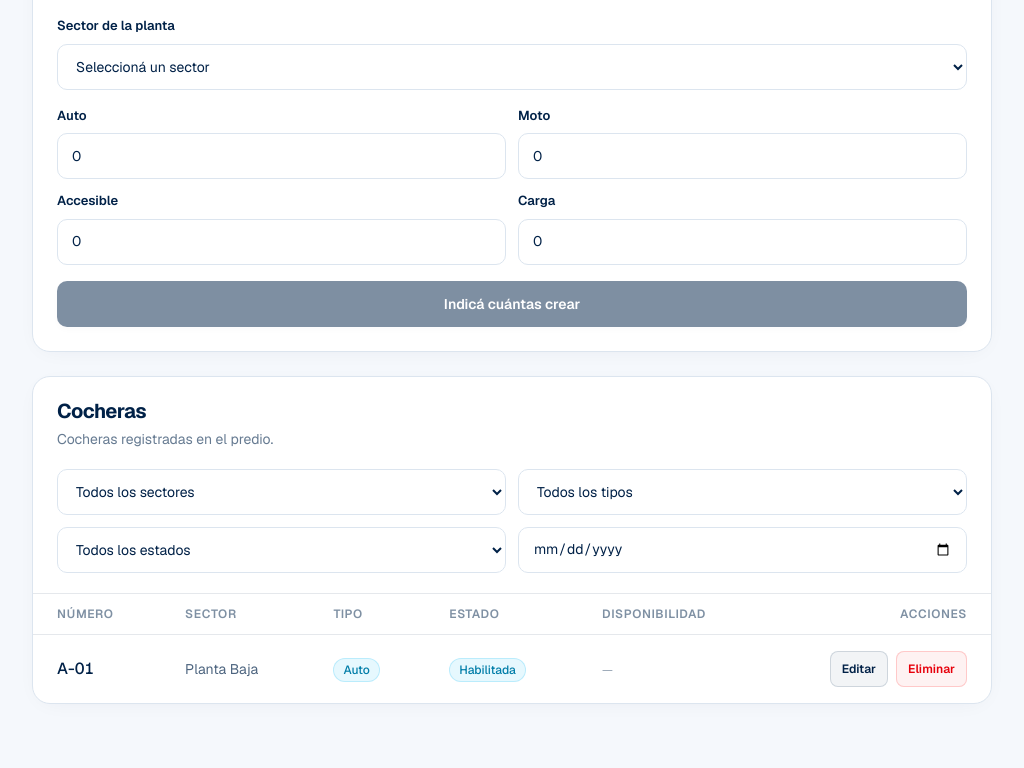
Scenario: CocherasManagement › al elegir una fecha, pide al backend el dia completo como rango y muestra Libre/Ocupada
(page scrolled)
Expected: the text "A-01" is shown, 33,634 -> 161,702
Type "2026-06-15" into the date field named "Filtrar por fecha" at (742, 550), box 518,526 -> 967,572
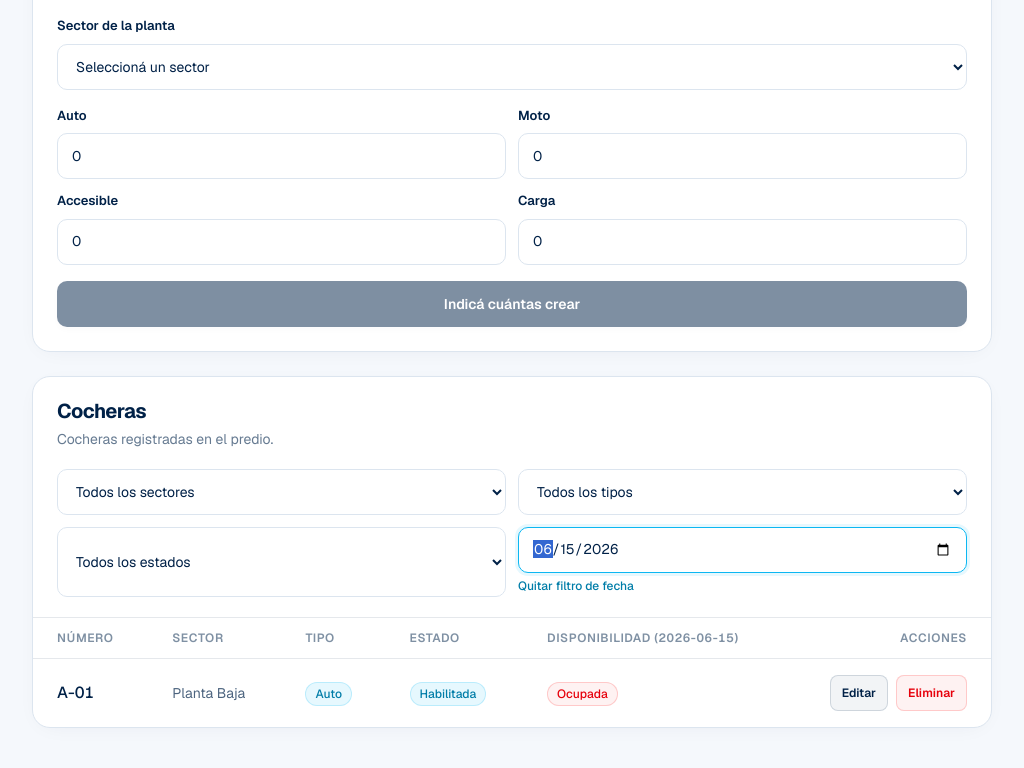
Expected: the text "Ocupada" is shown, 547,682 -> 618,706
